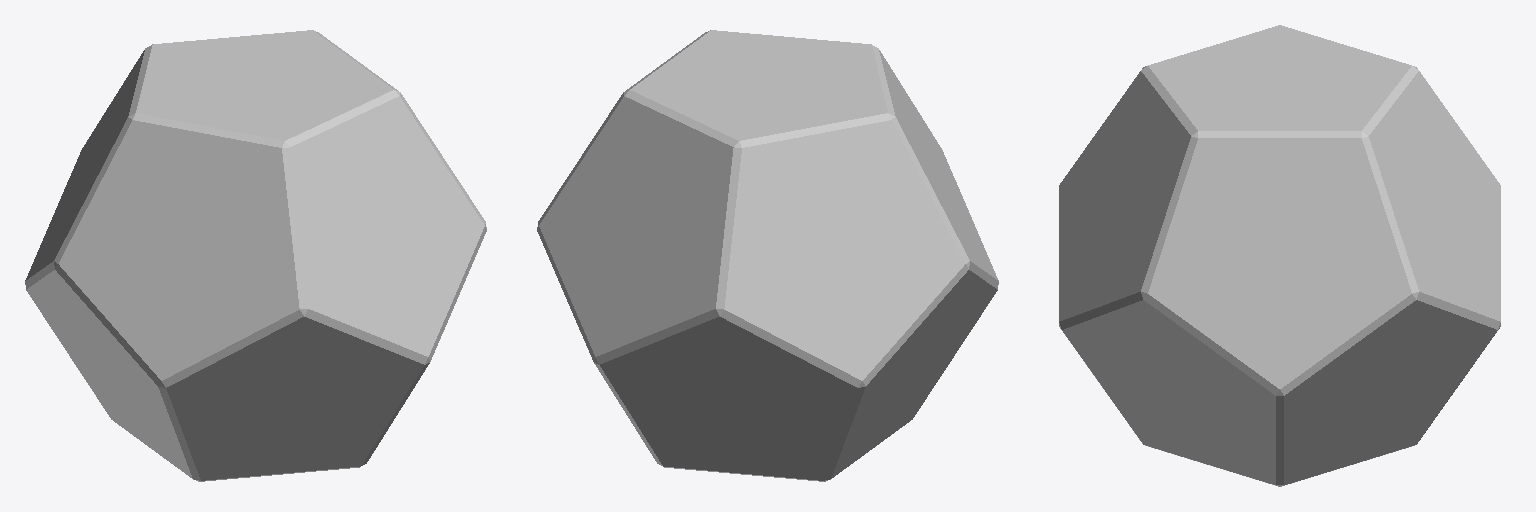
The model's file is Dodeca.obj.
The picture shows the model from 3 angles: view 1: azimuth 30°, elevation 25°; view 2: azimuth 150°, elevation 25°; view 3: azimuth 270°, elevation 25°; orthographic projection.
Visible parts, largest first — view 1: bevel_dodeca_Icosphere.006; view 2: bevel_dodeca_Icosphere.006; view 3: bevel_dodeca_Icosphere.006.
Boxes of the visible parts, box(x1,y1,x2,y2) form: bevel_dodeca_Icosphere.006: box(25, 30, 486, 481); bevel_dodeca_Icosphere.006: box(537, 30, 998, 481); bevel_dodeca_Icosphere.006: box(1059, 25, 1500, 486).
Size of the model in its own units: 1.77 by 1.45 by 1.68.